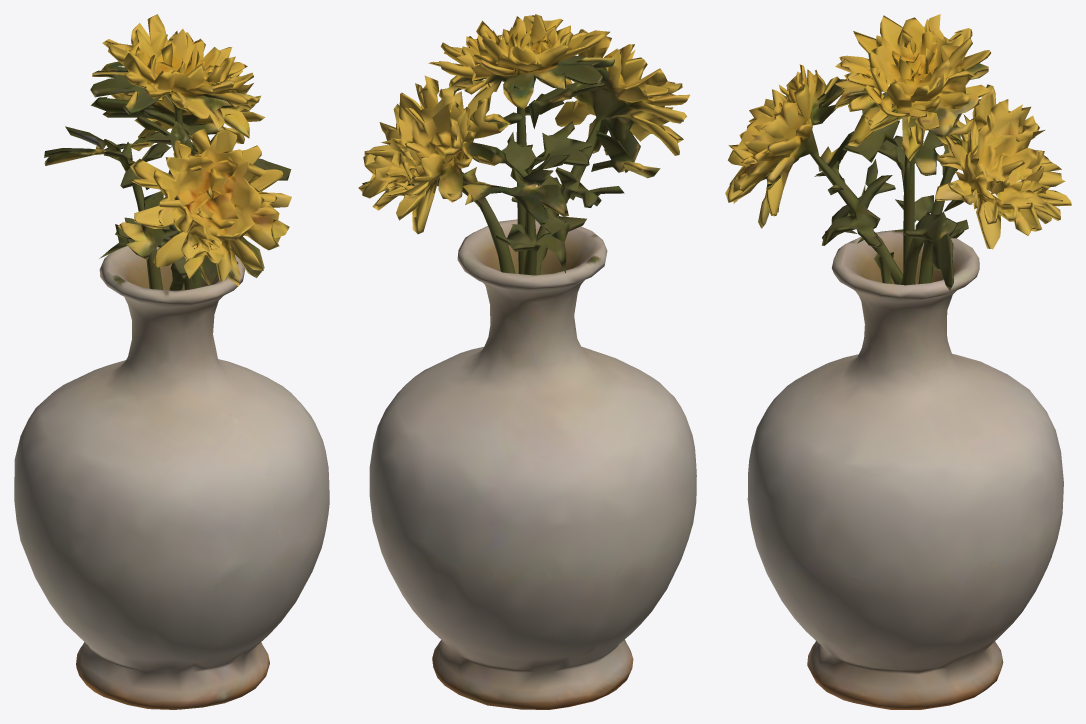
File: hw_tuding.glb
3 renders of one model, left to right at view 1: azimuth 30°, elevation 25°; view 2: azimuth 150°, elevation 25°; view 3: azimuth 270°, elevation 25°, orthographic. The views are drawn at different scales.
Visible parts, largest first — view 1: tripo_node_d0a9ac83-b74d-4eea-9089-0bf15ddf6846; view 2: tripo_node_d0a9ac83-b74d-4eea-9089-0bf15ddf6846; view 3: tripo_node_d0a9ac83-b74d-4eea-9089-0bf15ddf6846.
Boxes of the visible parts, x1,y1,x2,y2 form: tripo_node_d0a9ac83-b74d-4eea-9089-0bf15ddf6846: (14, 14, 329, 709); tripo_node_d0a9ac83-b74d-4eea-9089-0bf15ddf6846: (358, 14, 696, 709); tripo_node_d0a9ac83-b74d-4eea-9089-0bf15ddf6846: (725, 14, 1071, 709).
Bounding box in the file's own units: 0.4582 × 1 × 0.4881.
1 material, 1 textured.
